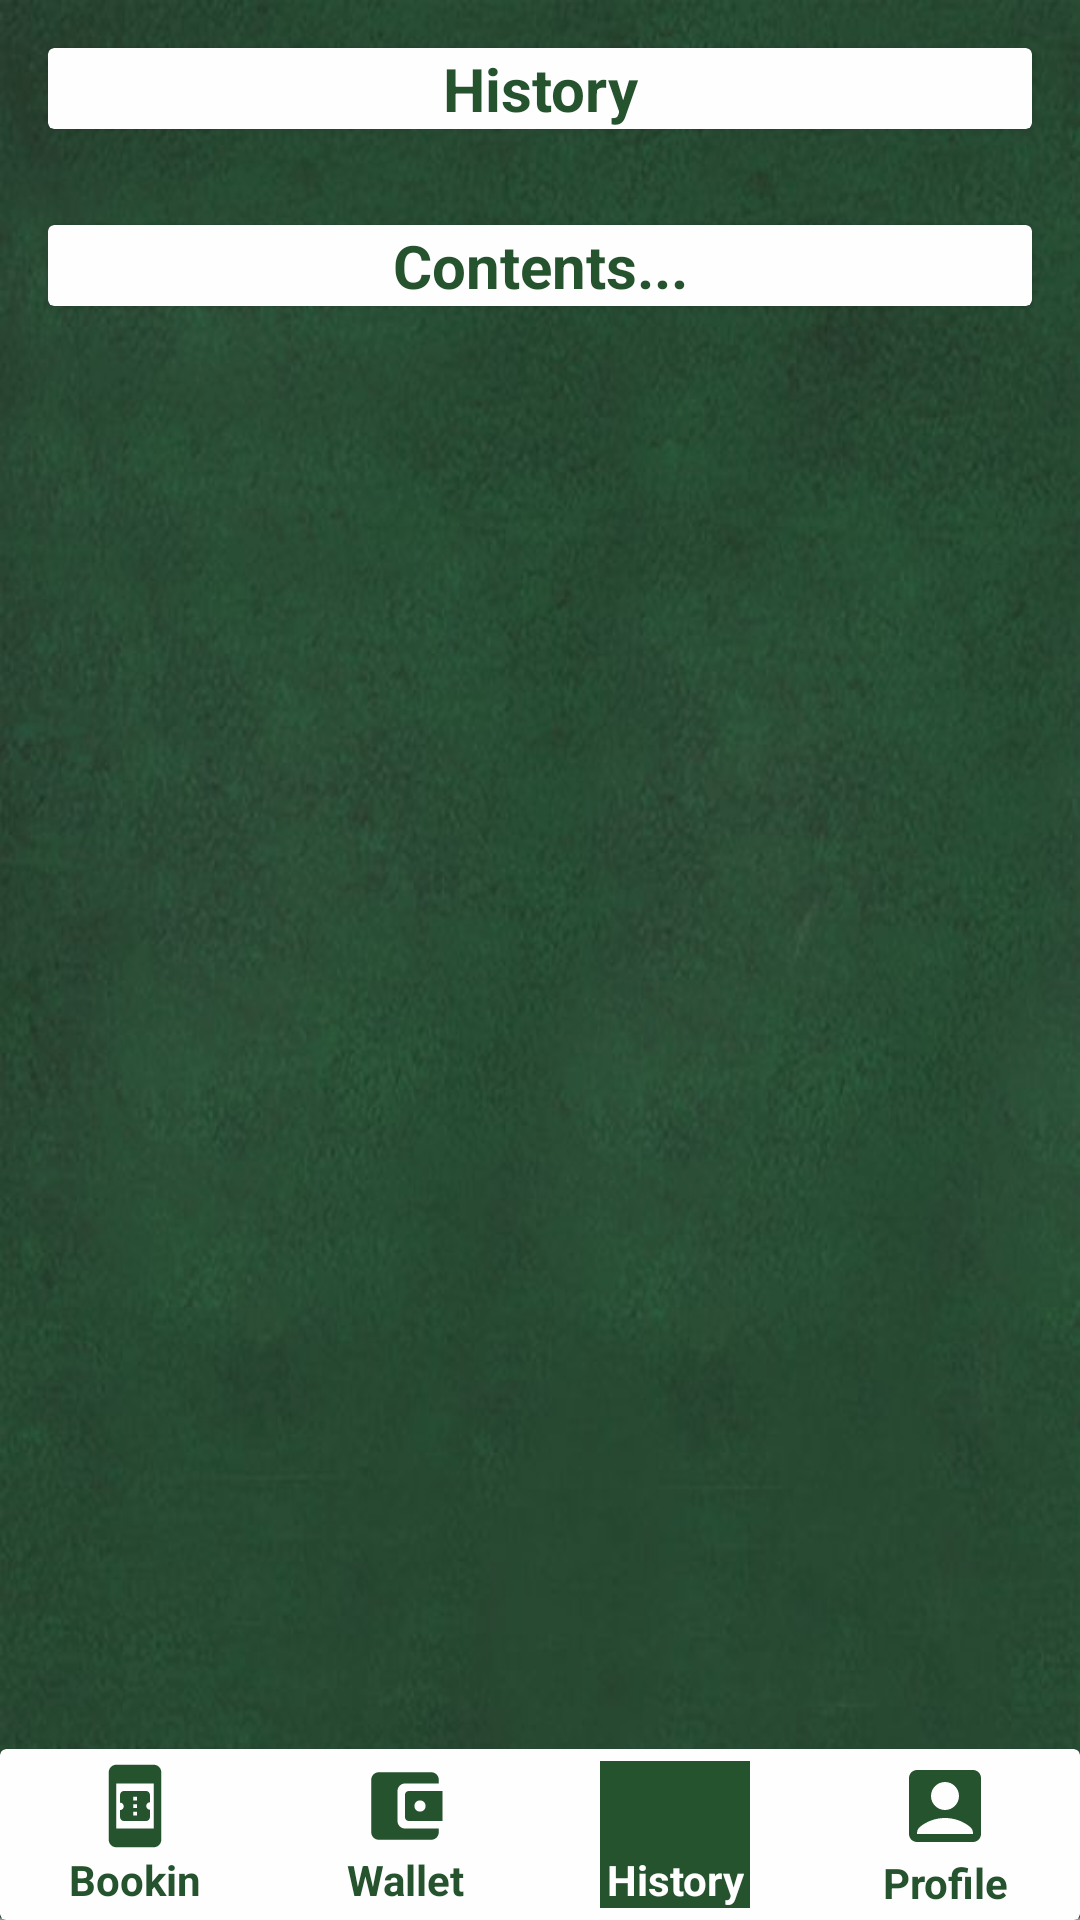

Icon click points for this 1080x1920 phone screenshot, format [x,y]:
ticket: [135,1806]
